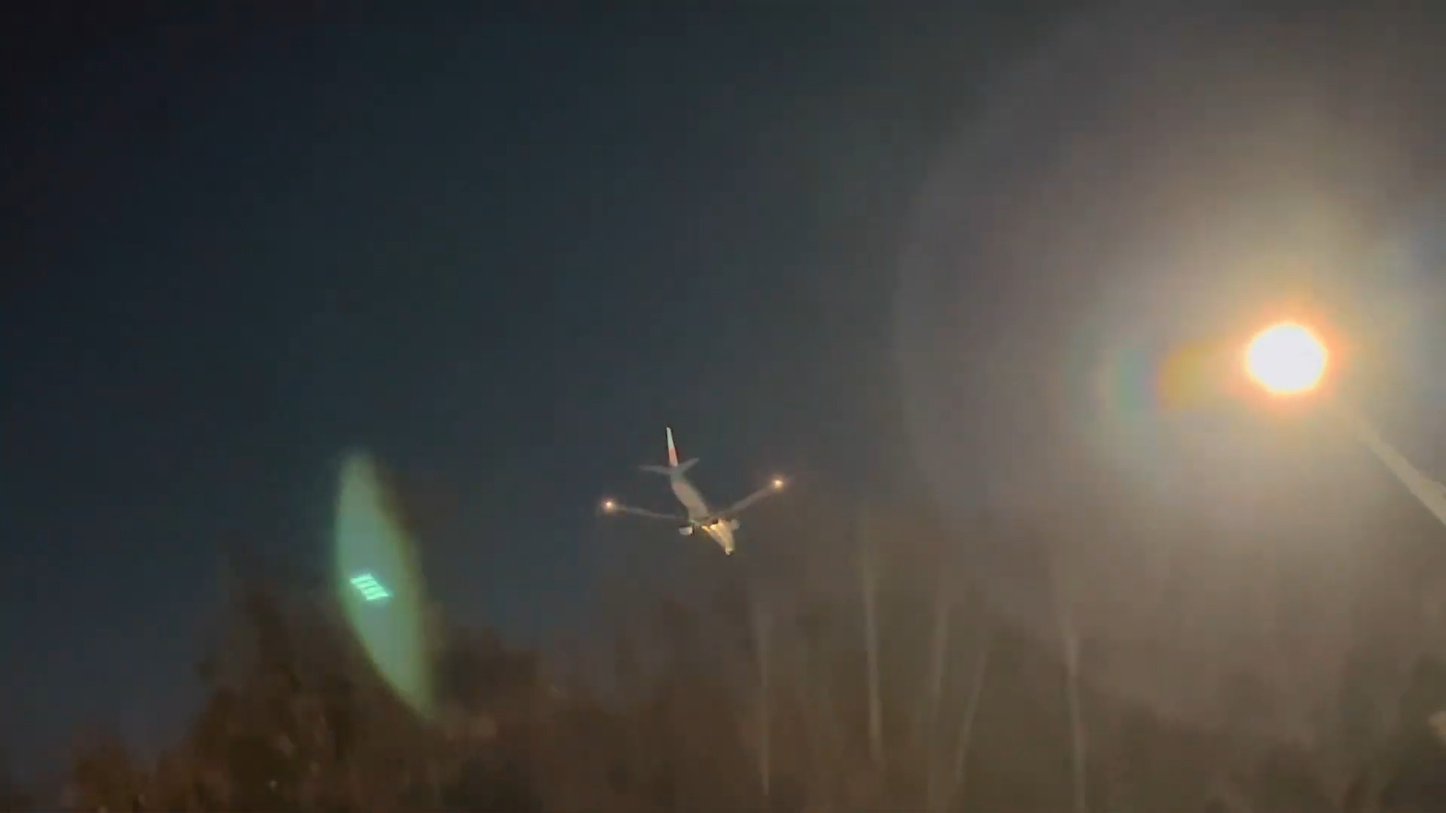airplane: (599, 426, 790, 563)
